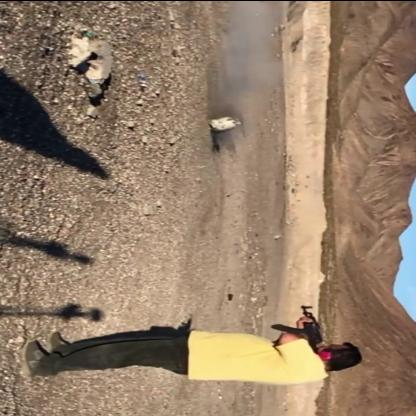long weapon: (272, 292, 328, 361)
